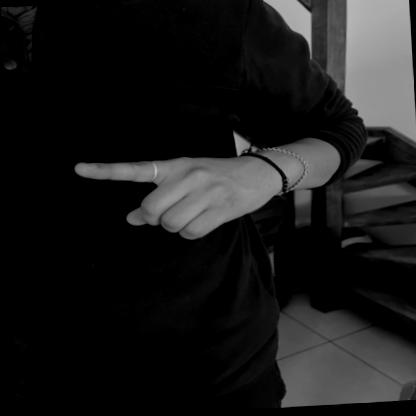S: (65, 144, 280, 252)
